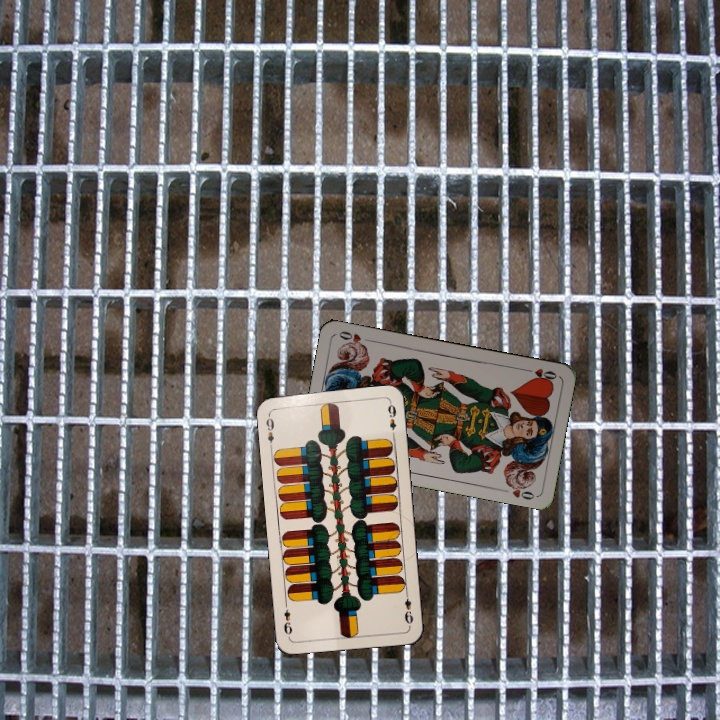E9: (262, 410, 277, 451), (400, 588, 415, 626)
HO: (520, 364, 559, 384)
